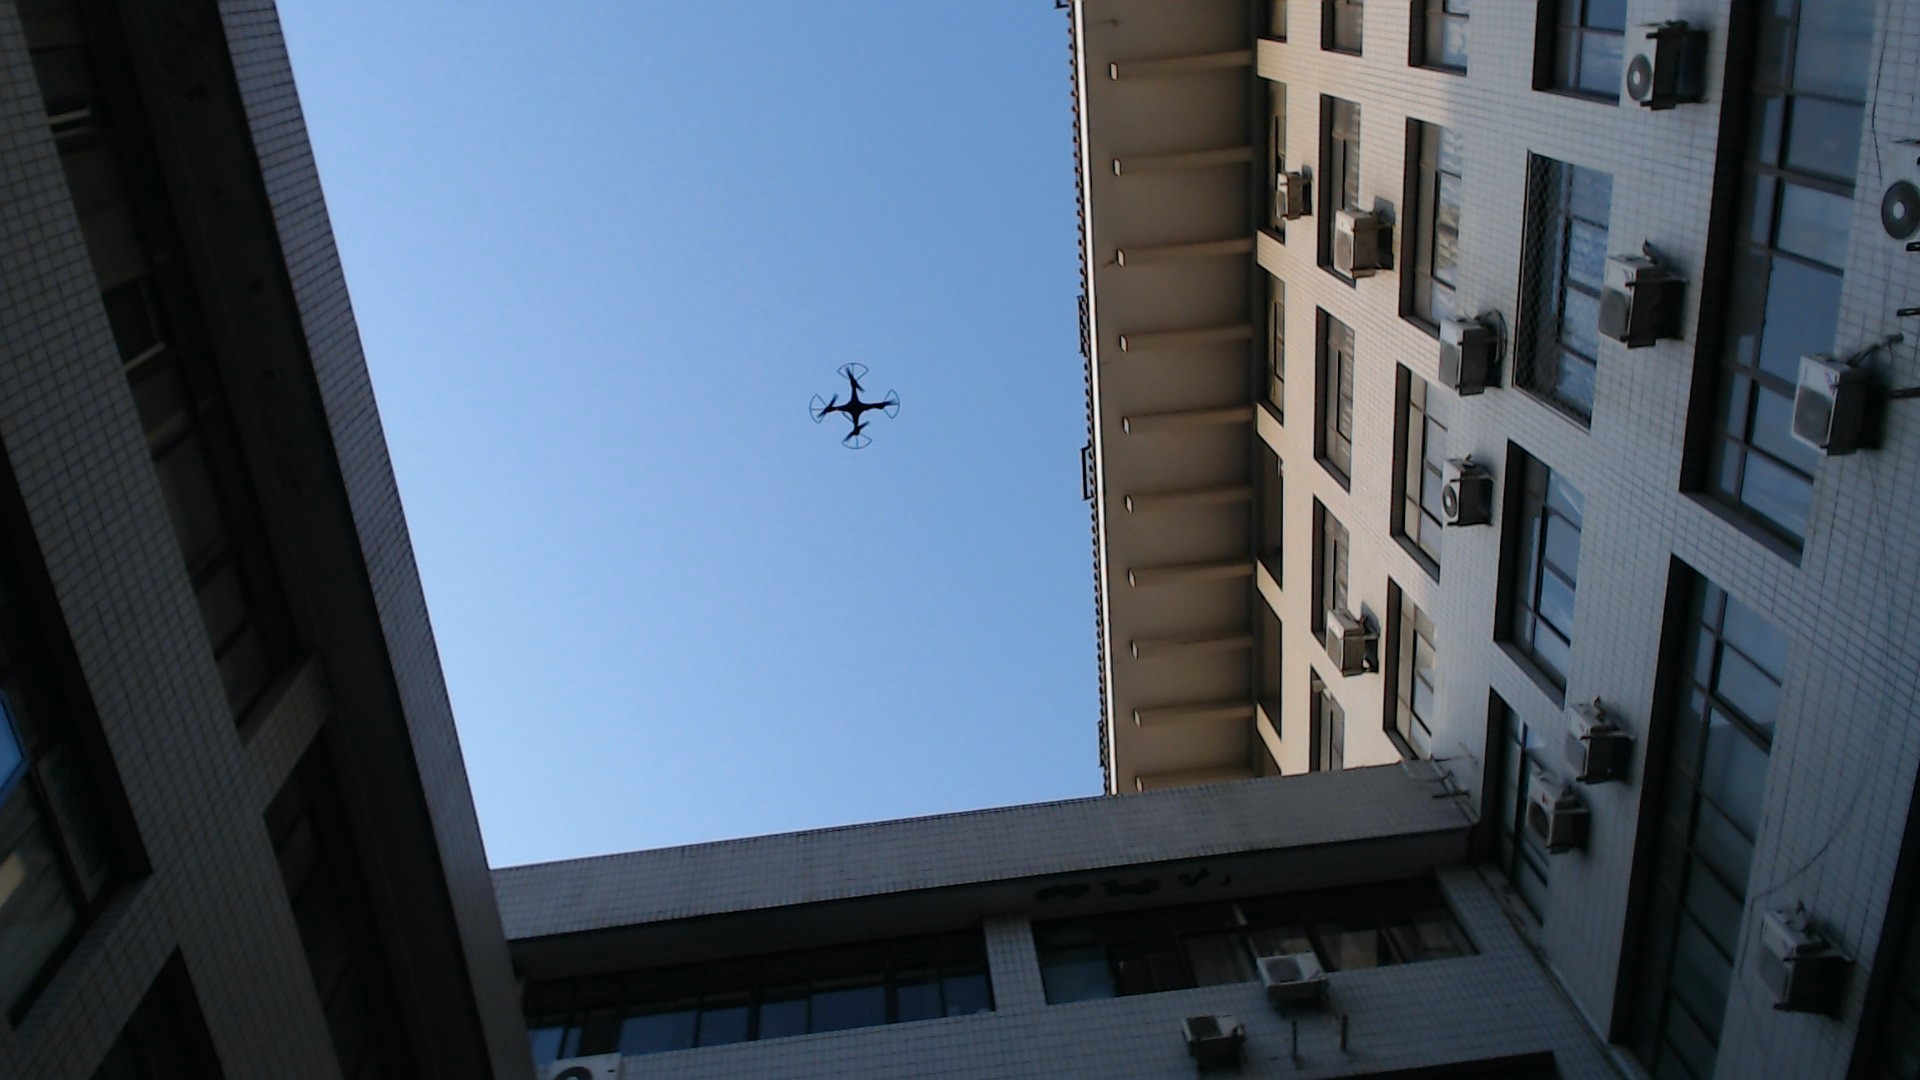drone: (793, 338, 913, 459)
